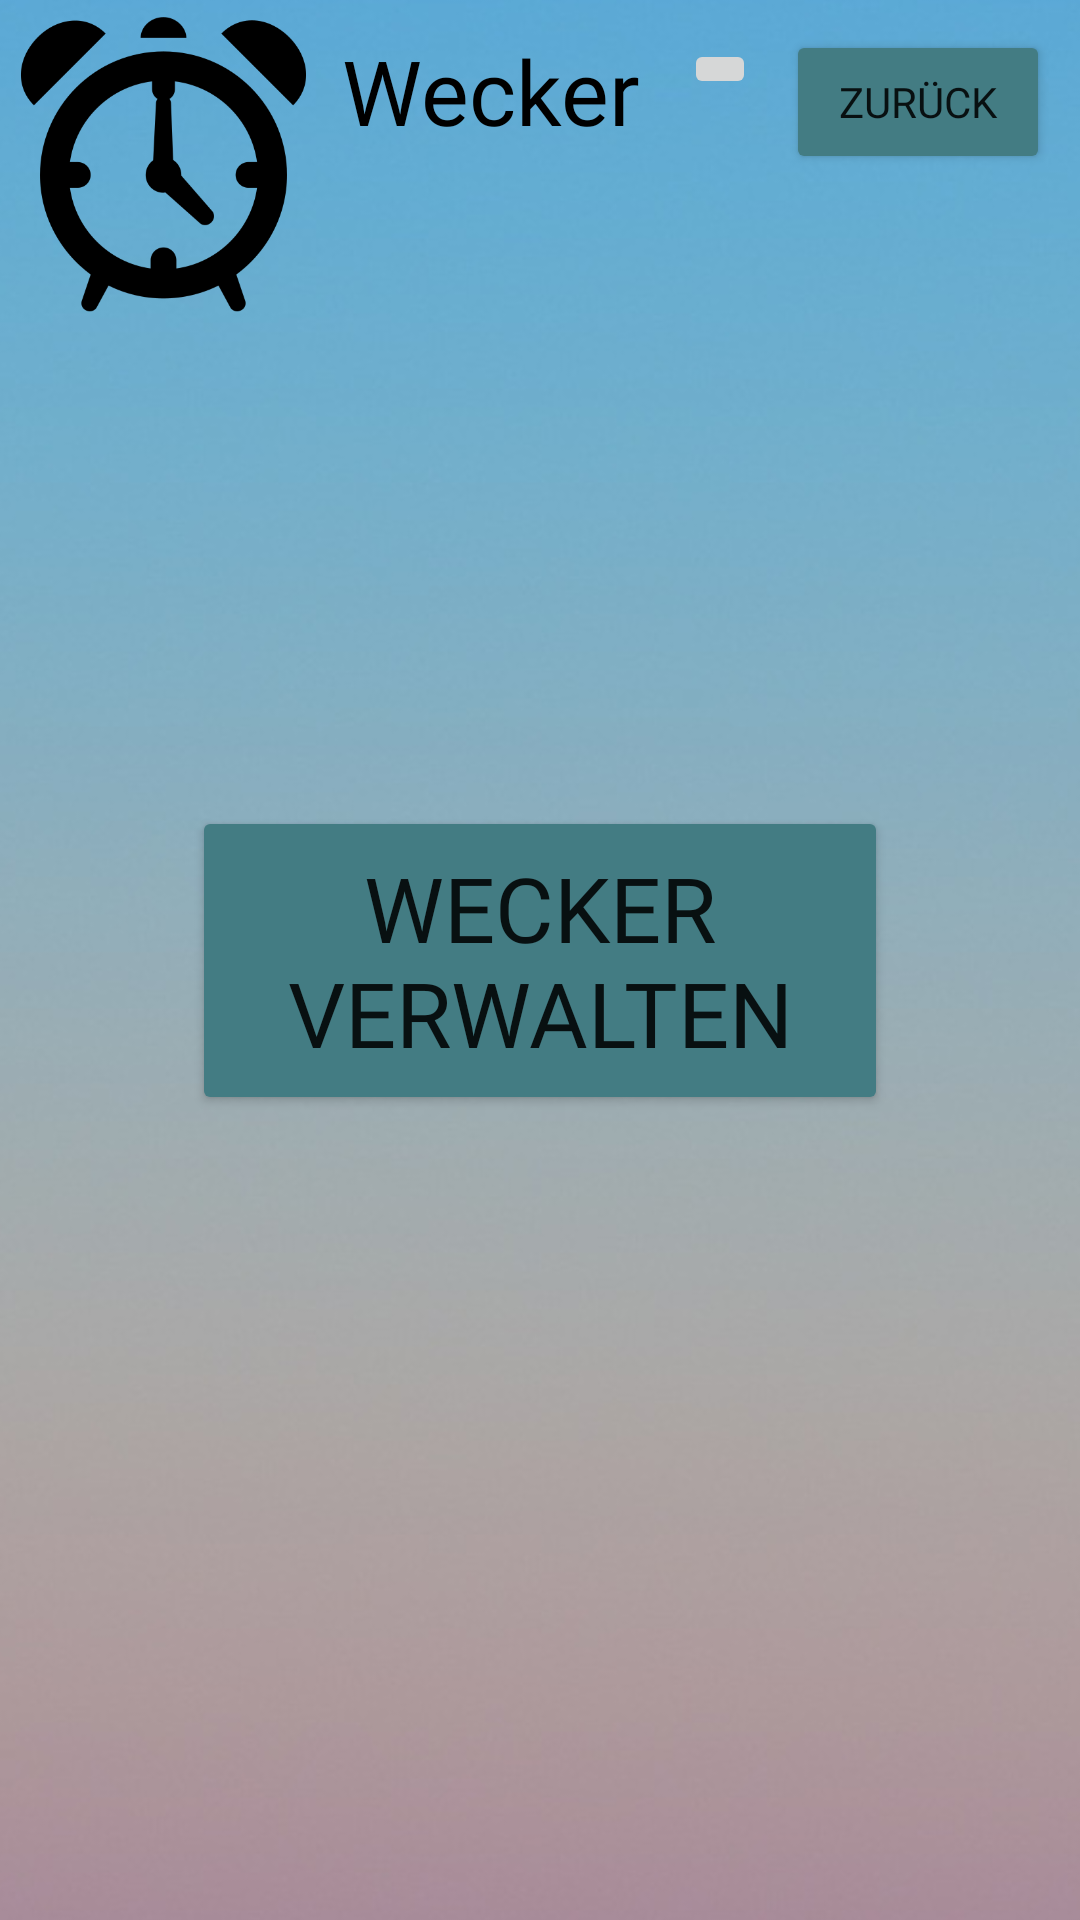

Point at icon controls on the screen. Image size 1080 × 1920, points as point (x, y).
alarm clock: point (163, 164)
